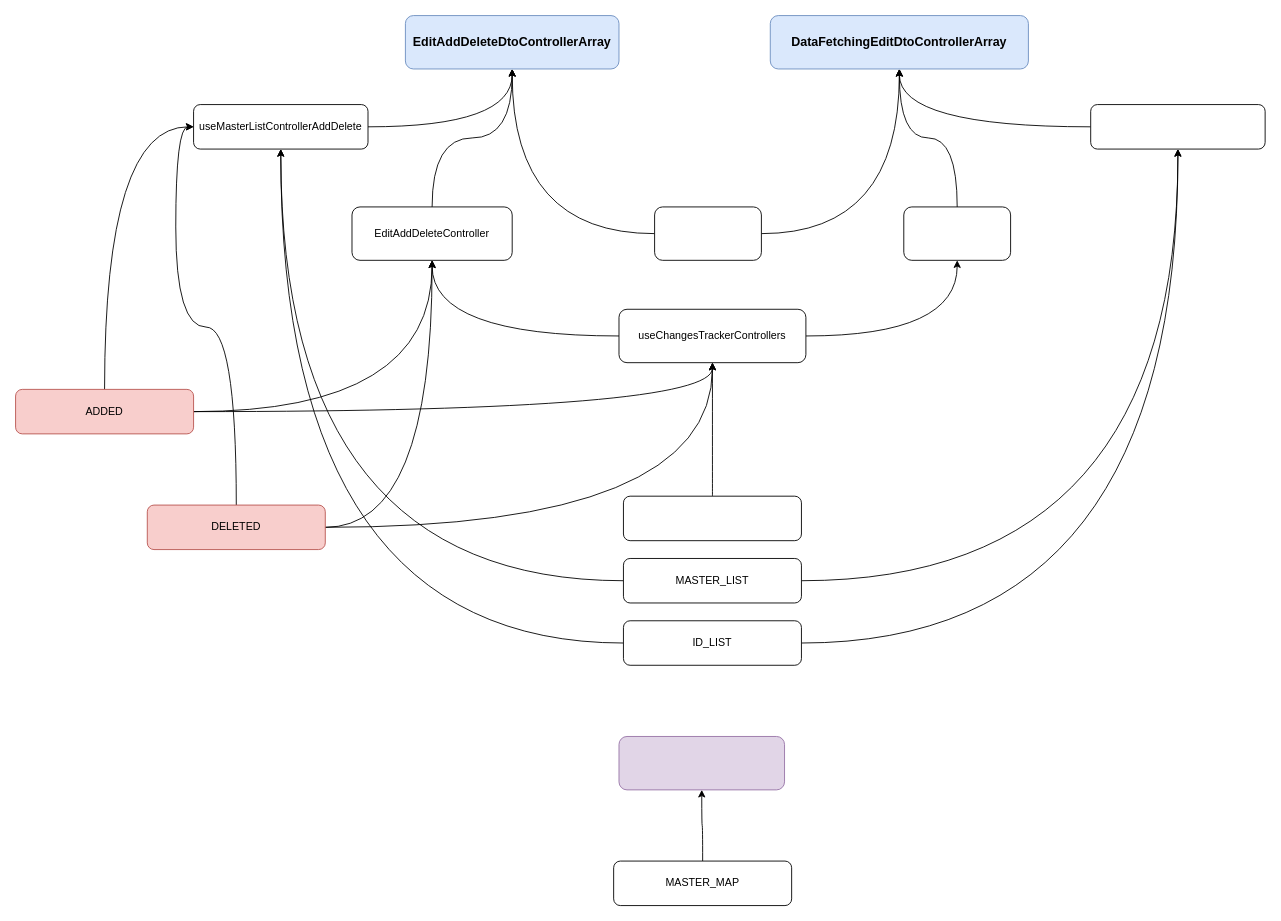
Some shapes in this 1281 by 921 pixel diagram are drawn without their labels. The box of each missing label's shape, as (x1, y1, x2, y2) in pixels:
CHANGES: (623, 495, 801, 541)
DtoControllerArray: (654, 206, 761, 260)
EditController: (903, 206, 1011, 260)
MasterMapController: (618, 736, 785, 790)
useMasterListFetchController: (1090, 104, 1265, 149)
